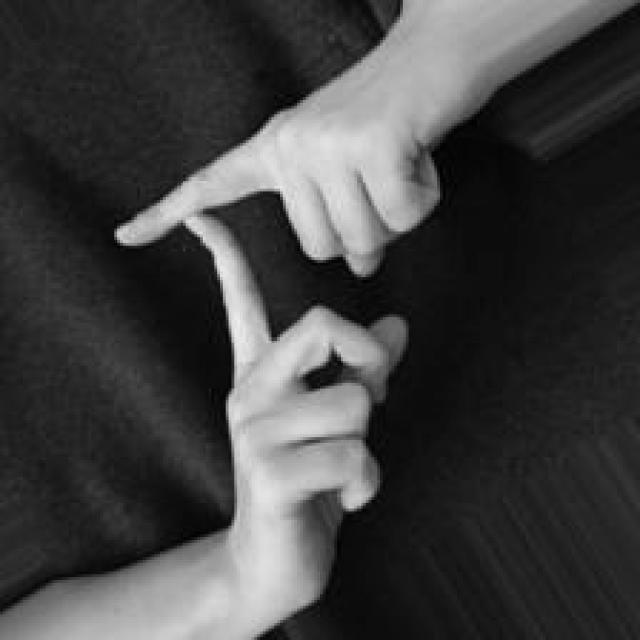T: (111, 60, 486, 640)
